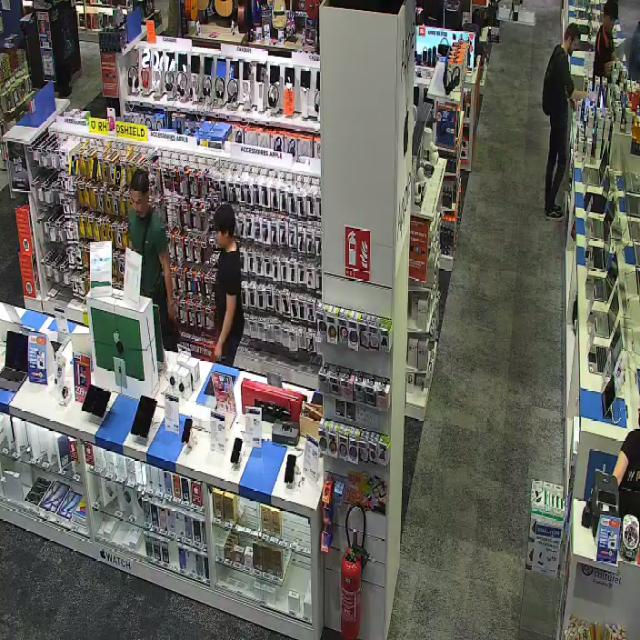hands: (167, 303, 178, 321), (214, 343, 223, 360), (589, 91, 598, 103)
person: (543, 24, 598, 219), (128, 168, 176, 350), (215, 204, 244, 366)
